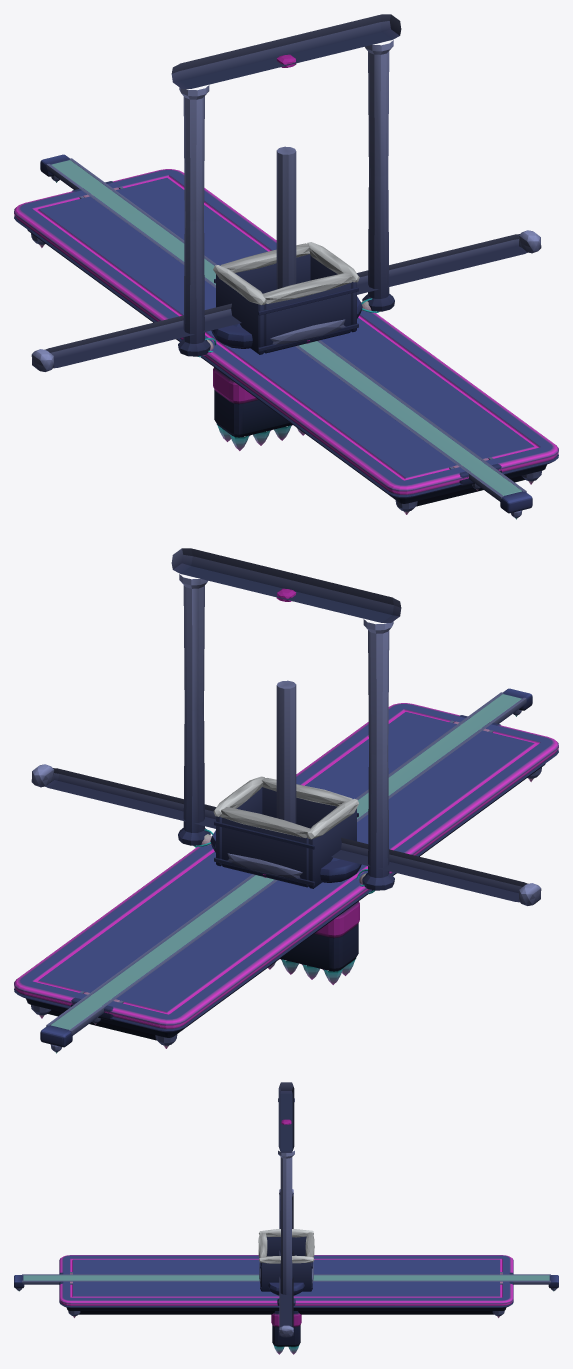
Rendered from core-3-Bg_BqaUp.glb.
3 renders of one model, top to bottom at view 1: azimuth 30°, elevation 25°; view 2: azimuth 150°, elevation 25°; view 3: azimuth 270°, elevation 25°, orthographic. The views are drawn at different scales.
Visible parts, largest first — view 1: block_10x2x40#0, pressFrame_9x6x4x7#0, hopper_4.3x3#0, beam_1.5x1.5x48#0, mount_14.4#0, press_7.5x6x2.5#0, spout_7x2#0; view 2: block_10x2x40#0, pressFrame_9x6x4x7#0, hopper_4.3x3#0, beam_1.5x1.5x48#0, mount_14.4#0, press_7.5x6x2.5#0, spout_7x2#0; view 3: block_10x2x40#0, beam_1.5x1.5x48#0, pressFrame_9x6x4x7#0, hopper_4.3x3#0, mount_14.4#0, press_7.5x6x2.5#0.
Boxes of the visible parts, x1,y1,x2,y2 form: block_10x2x40#0: [14, 169, 558, 514]; pressFrame_9x6x4x7#0: [171, 14, 401, 356]; hopper_4.3x3#0: [213, 242, 359, 354]; beam_1.5x1.5x48#0: [40, 154, 532, 519]; mount_14.4#0: [31, 230, 541, 371]; press_7.5x6x2.5#0: [213, 146, 304, 450]; spout_7x2#0: [211, 296, 362, 348]; block_10x2x40#0: [14, 703, 558, 1048]; pressFrame_9x6x4x7#0: [171, 548, 401, 890]; hopper_4.3x3#0: [213, 776, 358, 888]; beam_1.5x1.5x48#0: [40, 688, 532, 1053]; mount_14.4#0: [31, 764, 541, 905]; press_7.5x6x2.5#0: [268, 680, 359, 984]; spout_7x2#0: [210, 830, 361, 882]; block_10x2x40#0: [59, 1255, 513, 1317]; beam_1.5x1.5x48#0: [14, 1274, 558, 1291]; pressFrame_9x6x4x7#0: [277, 1082, 295, 1305]; hopper_4.3x3#0: [258, 1229, 314, 1291]; mount_14.4#0: [279, 1189, 293, 1337]; press_7.5x6x2.5#0: [271, 1311, 301, 1354].
Size of the model in its own units: 29.7 by 22.1 by 48.
